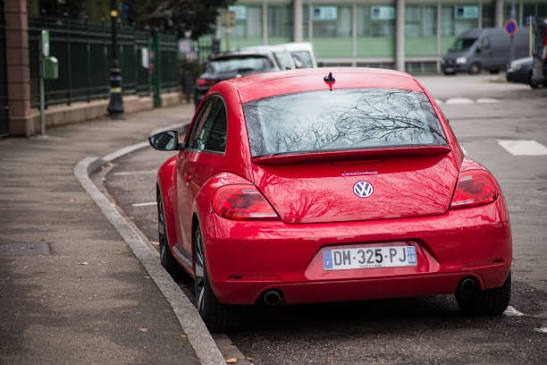car: (124, 62, 513, 324), (133, 61, 507, 320), (193, 53, 403, 118), (185, 47, 321, 107), (192, 54, 290, 103), (205, 40, 319, 79), (441, 26, 527, 76), (504, 48, 545, 87)
